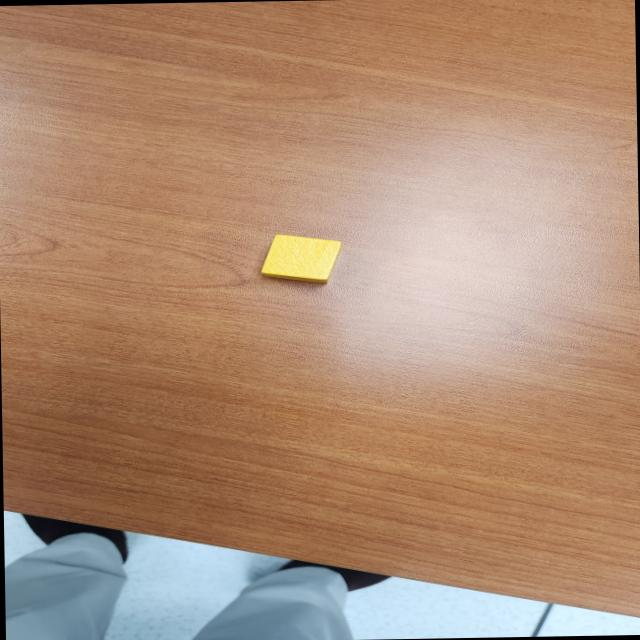yellow: (256, 234, 343, 287)
